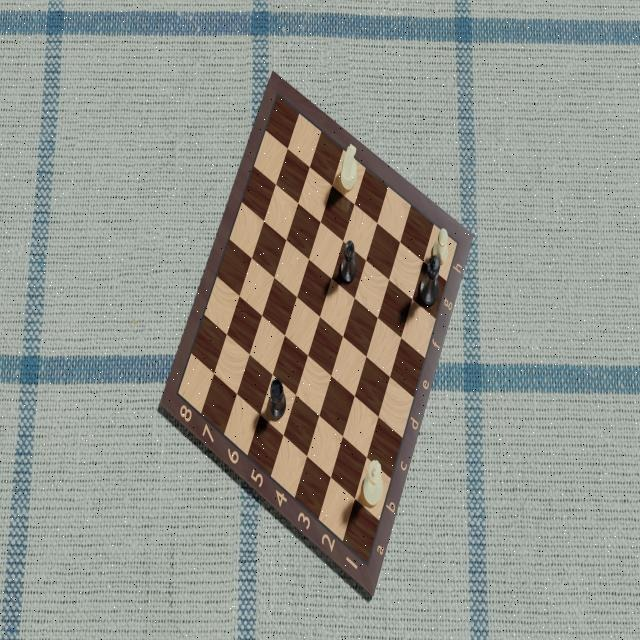black-bishop: (338, 237, 358, 286)
black-queen: (416, 253, 439, 310)
black-rook: (267, 377, 289, 424)
white-king: (363, 456, 385, 511)
white-knight: (339, 143, 359, 193)
white-pawn: (429, 225, 451, 270)
